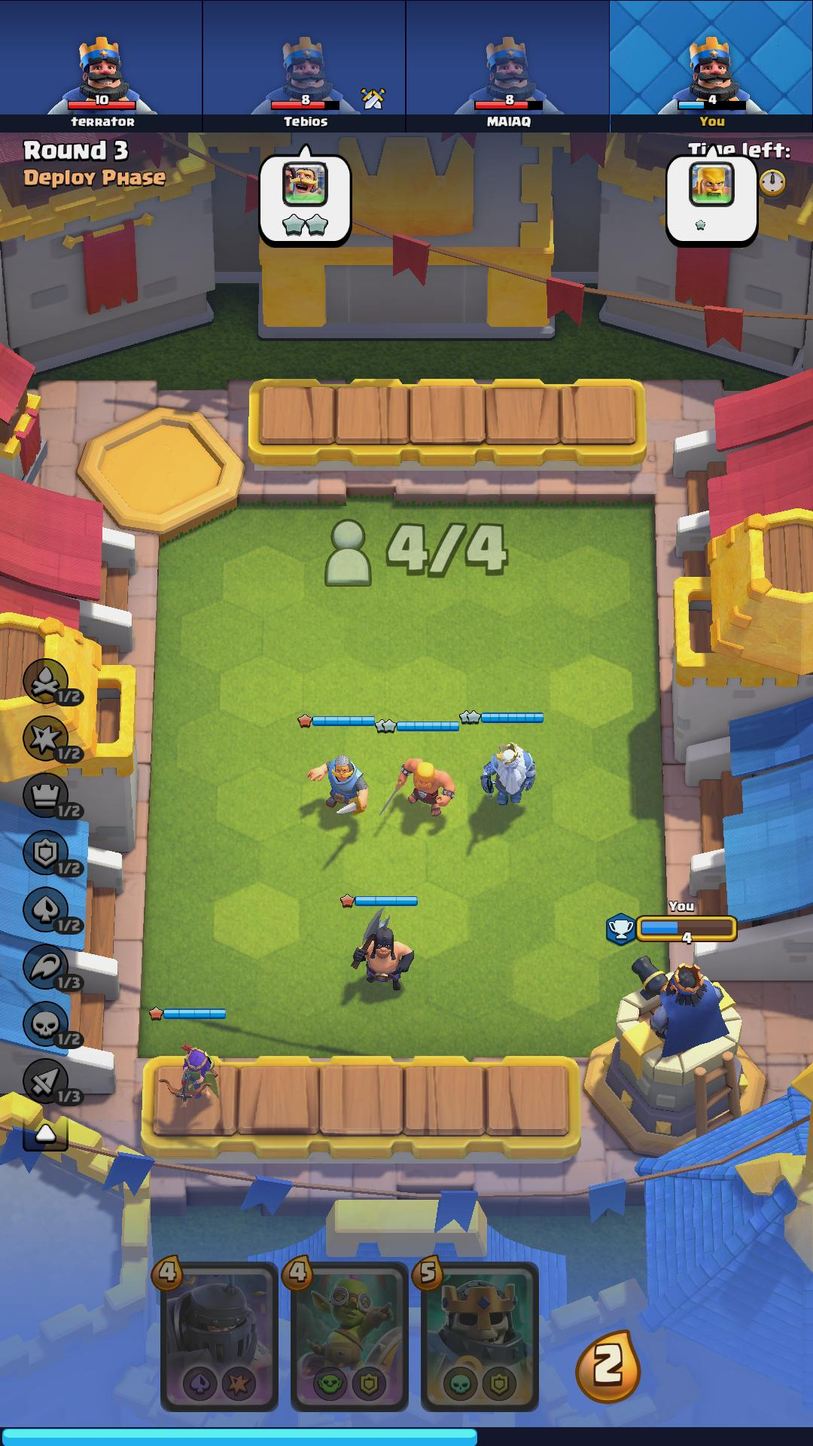barbarian: (386, 741, 455, 825)
executioner: (339, 910, 423, 1004)
ghost: (473, 737, 541, 816)
hand-king: (422, 1265, 539, 1411)
hand-machine: (296, 1265, 410, 1410)
hand-mega: (164, 1268, 275, 1412)
knight: (304, 743, 374, 827)
queen: (157, 1031, 232, 1110)
